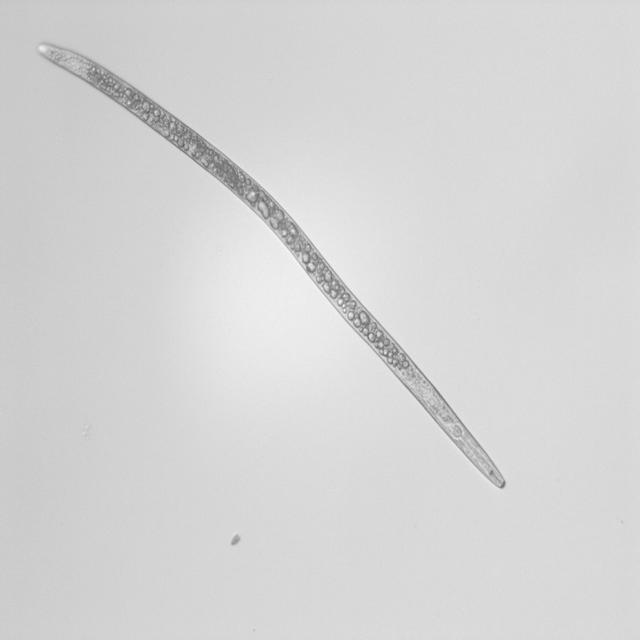Pratylenchus: (33, 39, 509, 497)
